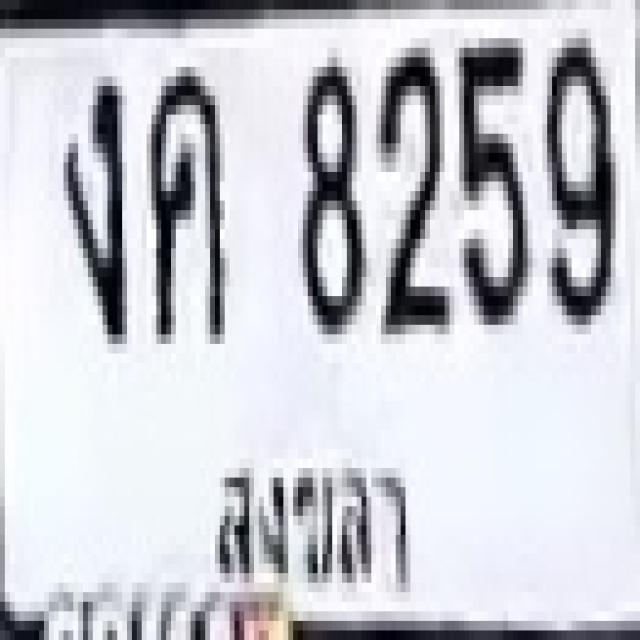-: (146, 62, 220, 339), (59, 67, 122, 334)
2: (376, 38, 445, 325)
5: (454, 38, 523, 315)
8: (298, 57, 362, 325)
9: (542, 29, 611, 315)
SKA: (198, 433, 420, 610)
